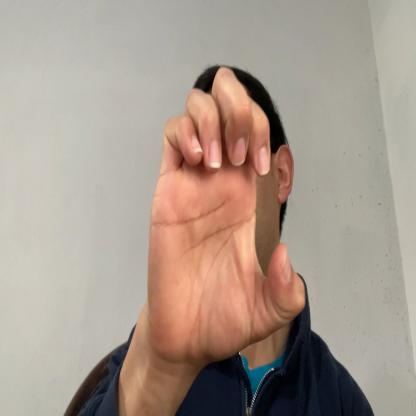E: (148, 67, 306, 364)
